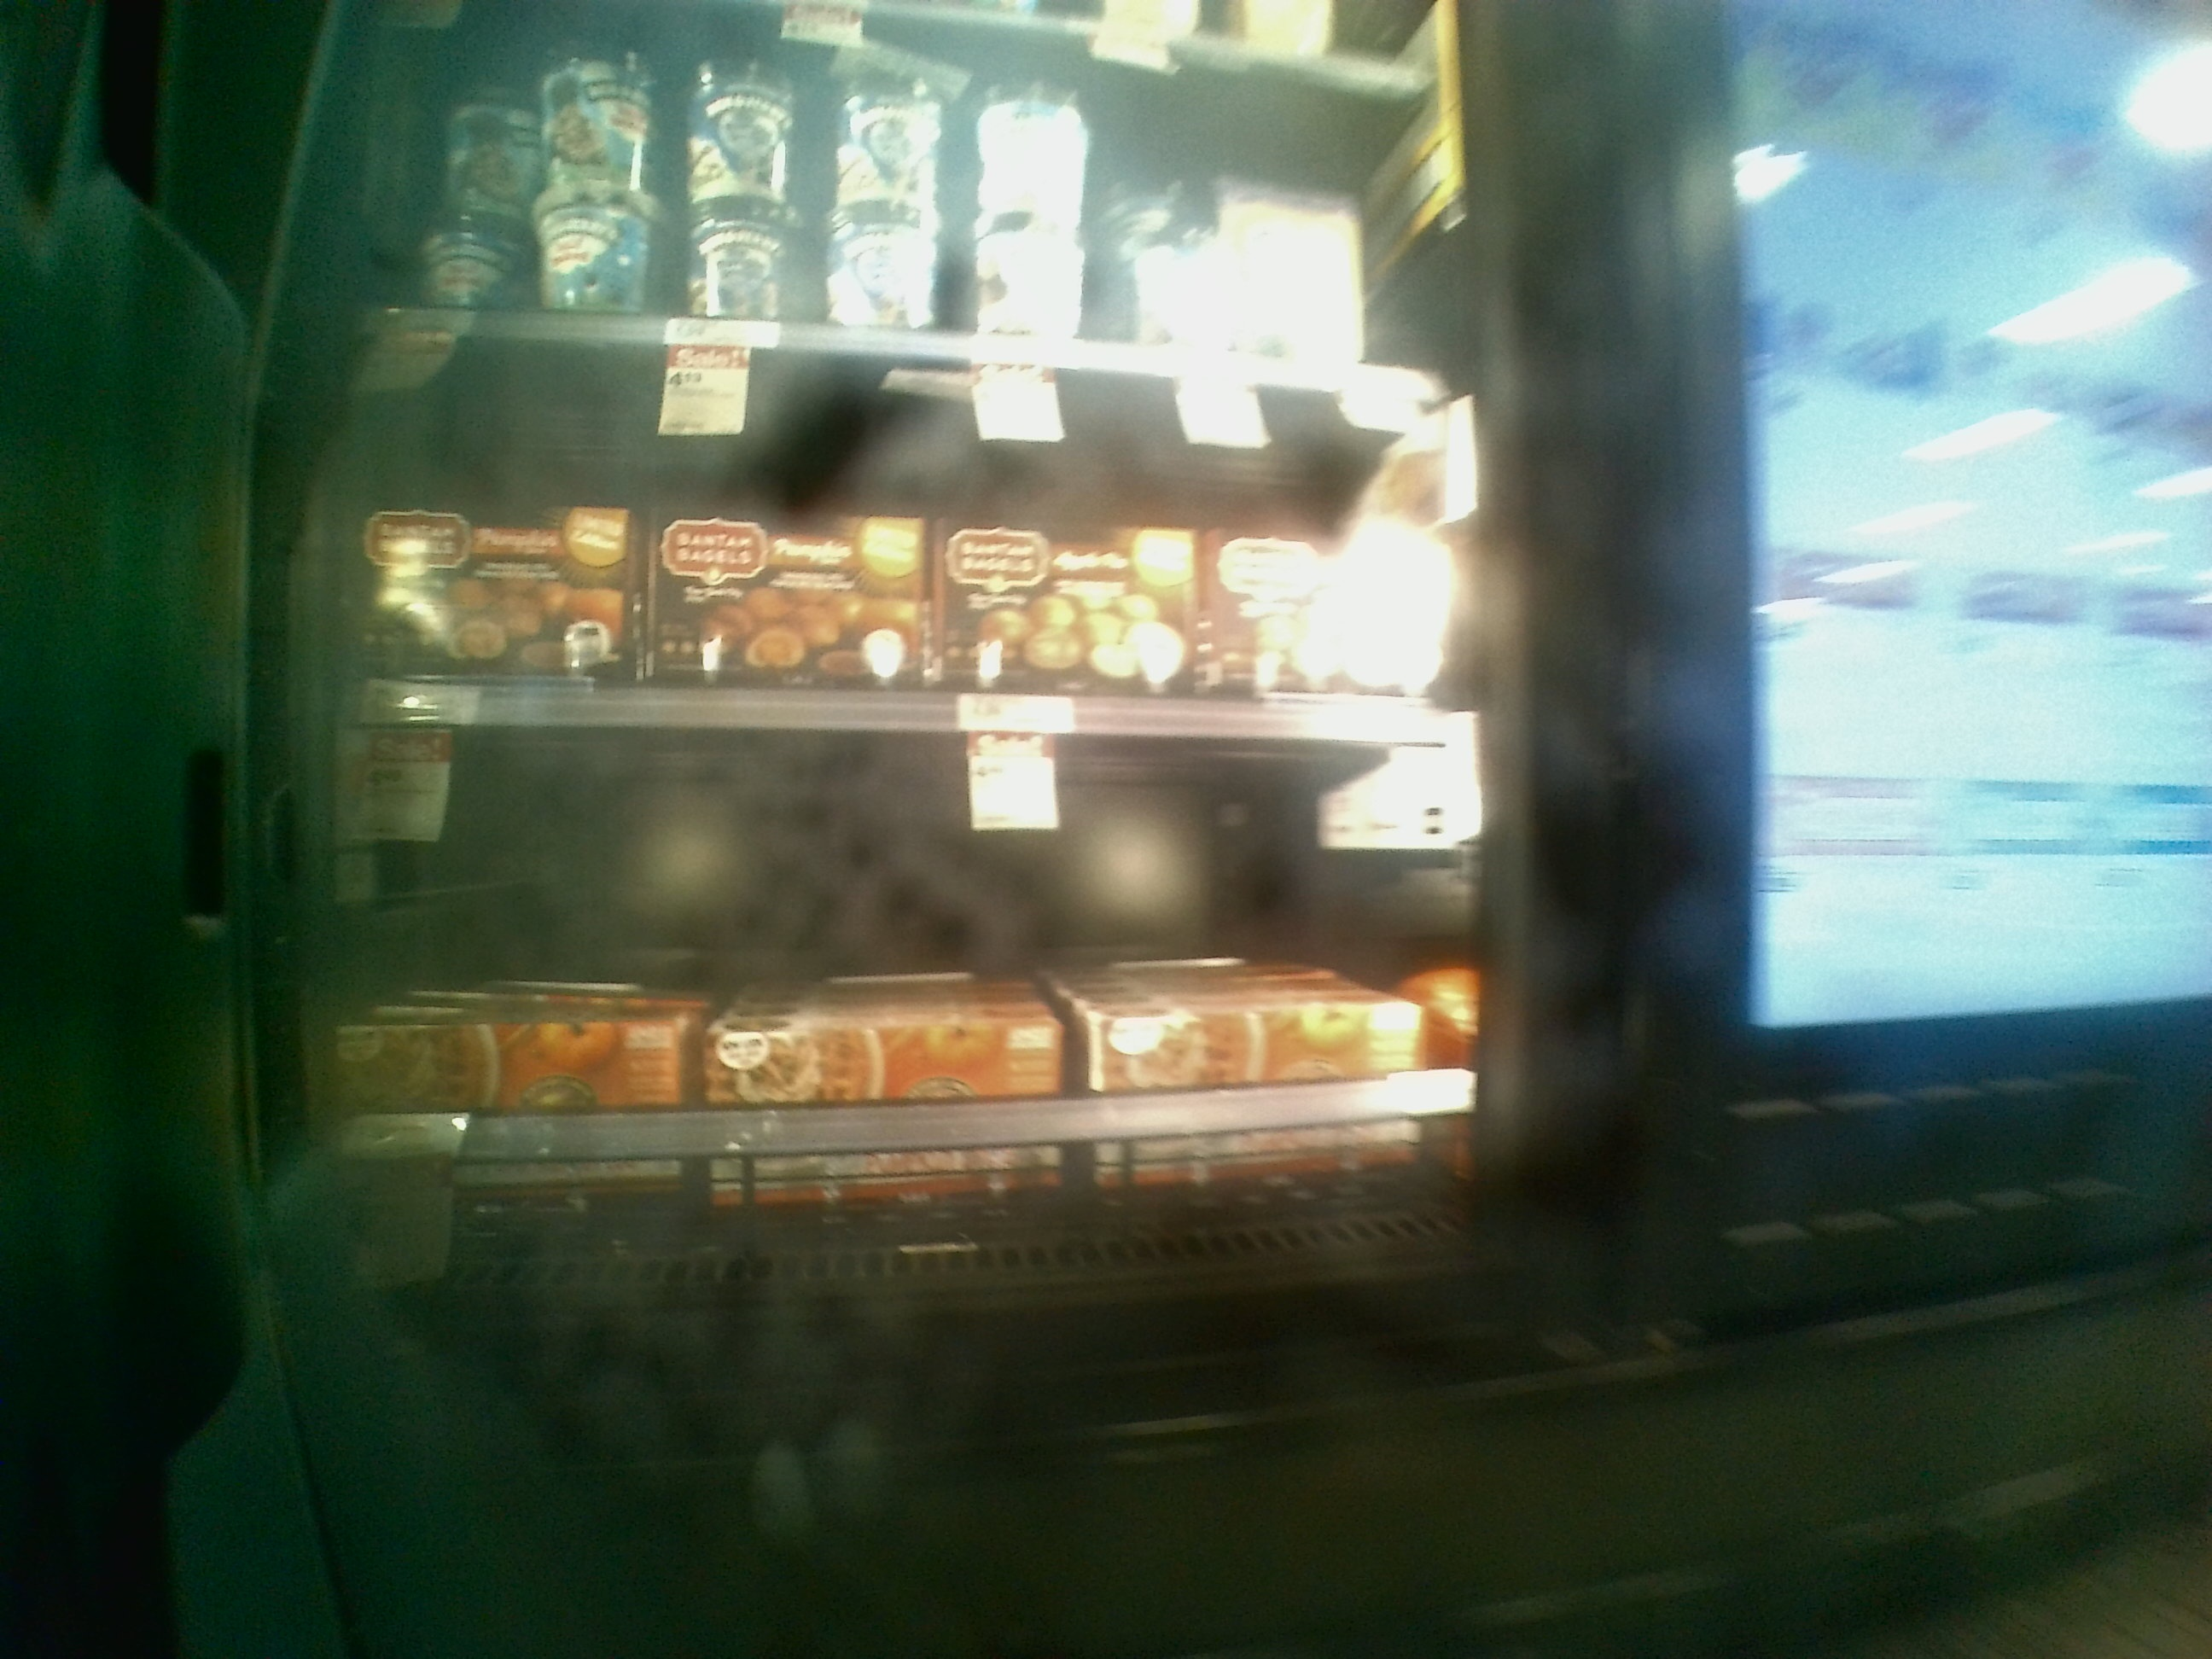shelf: (280, 706, 1519, 1290), (296, 329, 1493, 737)
